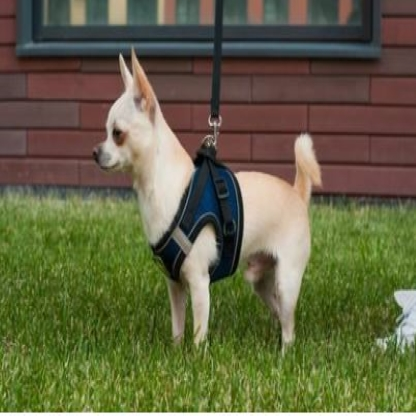chihuahua: (87, 46, 325, 354)
